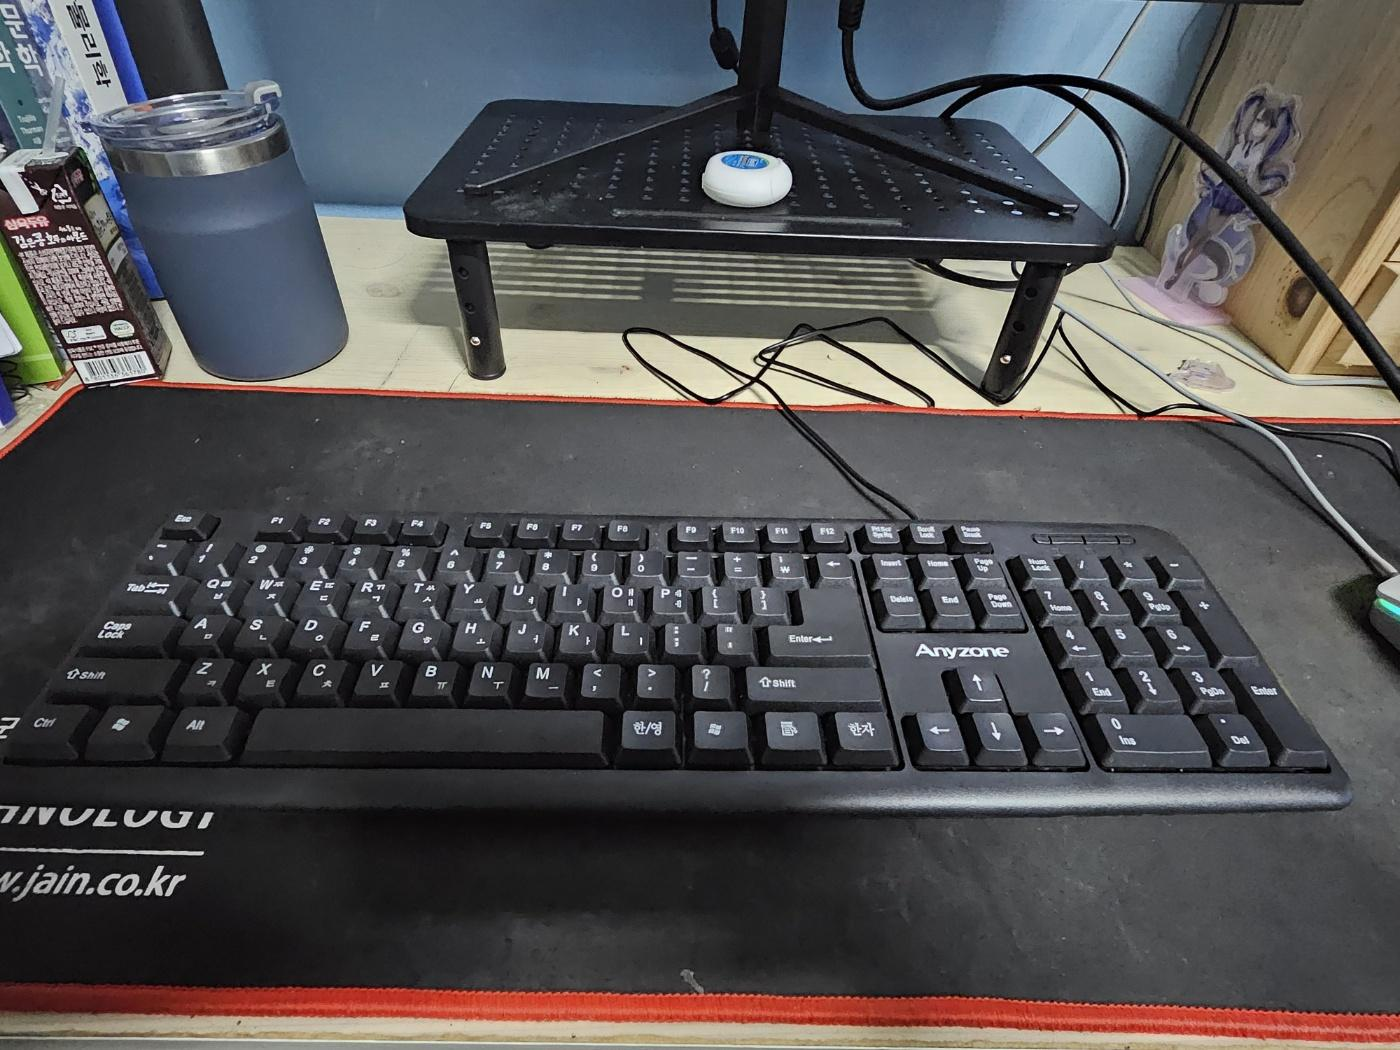keyboard: (1, 505, 1353, 815)
